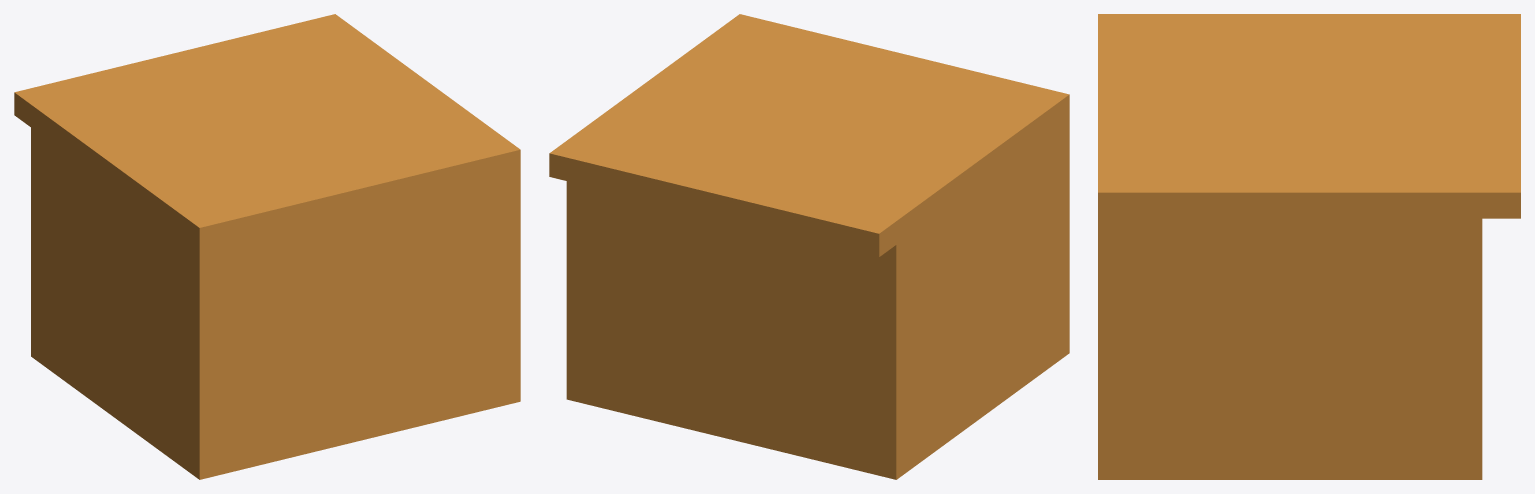
Rendered from counter.obj.
3 views of the same model, side by side, from view 1: azimuth 30°, elevation 25°; view 2: azimuth 150°, elevation 25°; view 3: azimuth 270°, elevation 25° (orthographic). The views are drawn at different scales.
Parts seen in each view (by area): view 1: group2019289916, group1502415458; view 2: group2019289916, group1502415458; view 3: group2019289916, group1502415458.
Part boxes in pixels (left/top/right/bottom): group2019289916: left=31, top=128, right=520, bottom=479; group1502415458: left=14, top=14, right=520, bottom=250; group2019289916: left=566, top=118, right=1069, bottom=479; group1502415458: left=549, top=14, right=1069, bottom=257; group2019289916: left=1098, top=218, right=1482, bottom=479; group1502415458: left=1098, top=14, right=1520, bottom=218.
Bounding box in the file's own units: 0.44 × 0.33 × 0.44.
